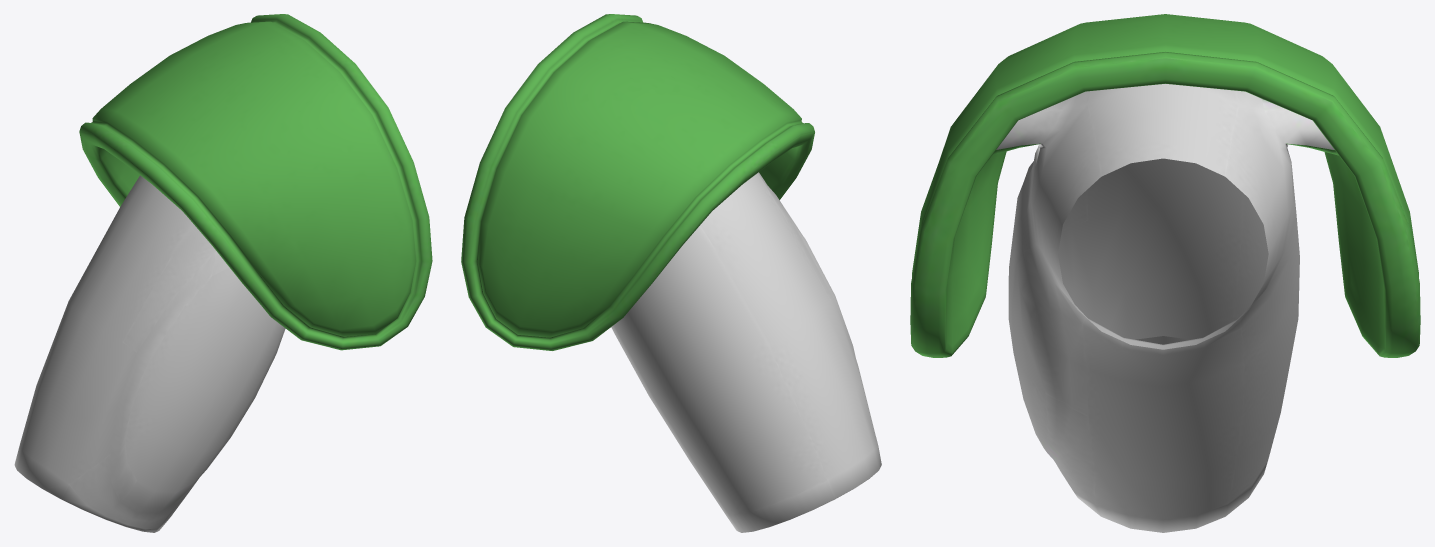
Rendered from left_shoulder.obj.
3 renders of one model, left to right at view 1: azimuth 30°, elevation 25°; view 2: azimuth 150°, elevation 25°; view 3: azimuth 270°, elevation 25°, orthographic. The views are drawn at different scales.
Visible parts, largest first — view 1: transform19 _Robot_l2:Body; view 2: transform19 _Robot_l2:Body; view 3: transform19 _Robot_l2:Body.
Part boxes in pixels (x1,y1,x2,y2): transform19 _Robot_l2:Body: [14, 14, 432, 532]; transform19 _Robot_l2:Body: [461, 14, 881, 532]; transform19 _Robot_l2:Body: [910, 14, 1420, 532].
Size of the model in its own units: 4.18 by 5.62 by 4.4.
Materials: 1 (1 with a texture image).
